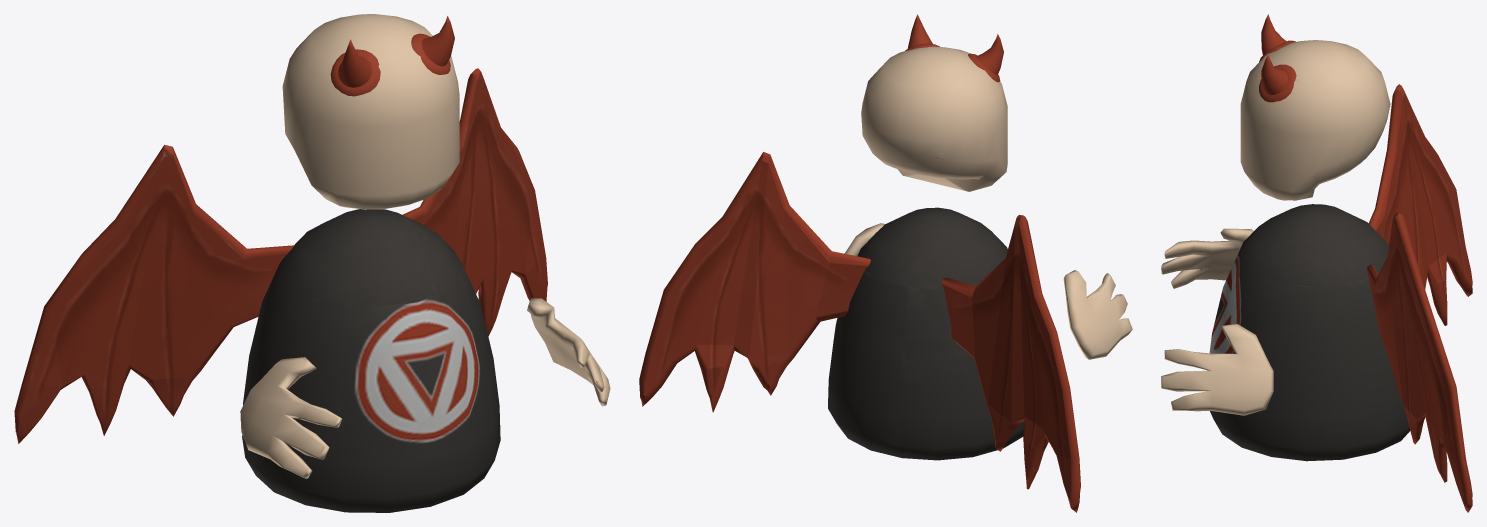
File: Demon.fbx
The picture shows the model from 3 angles, left to right: view 1: azimuth 30°, elevation 25°; view 2: azimuth 150°, elevation 25°; view 3: azimuth 270°, elevation 25°; orthographic projection. The views are drawn at different scales.
Parts seen in each view (by area): view 1: Body, polySurface1, head, polySurface5, polySurface4, pCone2, pTorus1; view 2: polySurface1, Body, head, polySurface5, pCone2; view 3: Body, polySurface1, head, polySurface4, polySurface5, pCone2, pTorus1.
Part boxes in pixels (x1,y1,x2,y2): Body: (242,209,500,512); polySurface1: (14,68,547,443); head: (282,14,459,209); polySurface5: (240,357,342,478); polySurface4: (527,298,610,406); pCone2: (338,16,454,87); pTorus1: (330,33,450,96); polySurface1: (639,152,1080,512); Body: (828,207,1023,460); head: (861,46,1007,191); polySurface5: (1063,270,1132,359); pCone2: (908,14,1003,75); Body: (1207,204,1410,461); polySurface1: (1367,84,1472,512); head: (1240,40,1390,200); polySurface4: (1161,324,1273,415); polySurface5: (1161,228,1253,288); pCone2: (1261,14,1287,95); pTorus1: (1259,40,1296,102).
Bounding box in the file's own units: 594 × 495 × 357.
Materials: 1 (1 with a texture image).
